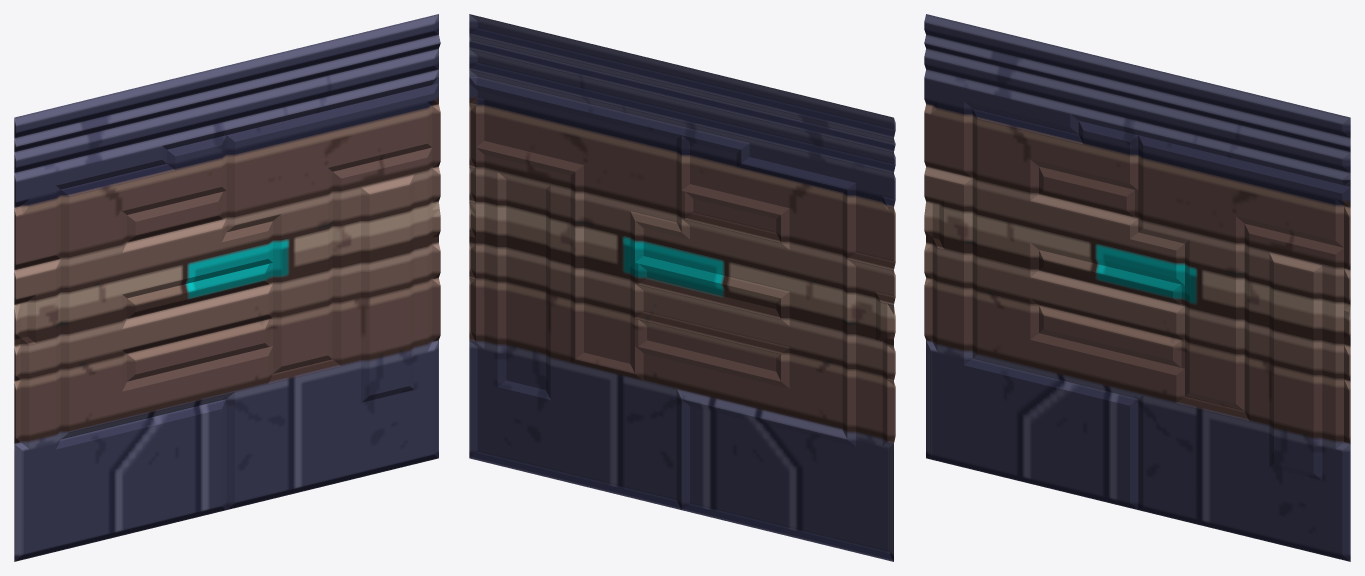
The model's file is sci3_2.fbx.
3 views of the same model, side by side, from view 1: azimuth 30°, elevation 25°; view 2: azimuth 150°, elevation 25°; view 3: azimuth 330°, elevation 25° (orthographic).
Visible parts, largest first — view 1: sci3_1_mesh; view 2: sci3_1_mesh; view 3: sci3_1_mesh.
Part boxes in pixels (<box>): sci3_1_mesh: <box>14,14,440,561</box>; sci3_1_mesh: <box>469,14,895,561</box>; sci3_1_mesh: <box>924,14,1350,561</box>.
Size of the model in its own units: 256 by 256 by 4.
